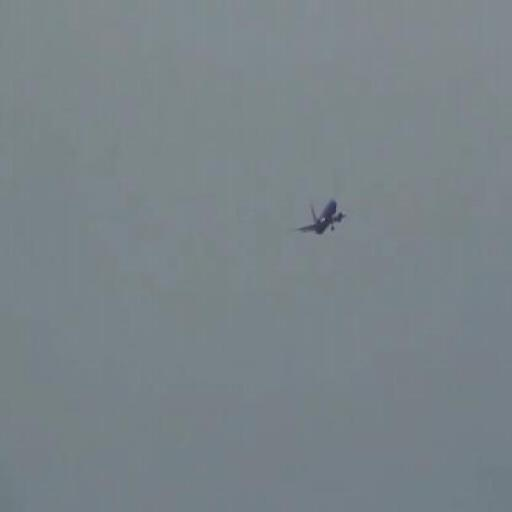aircraft: (295, 198, 347, 235)
